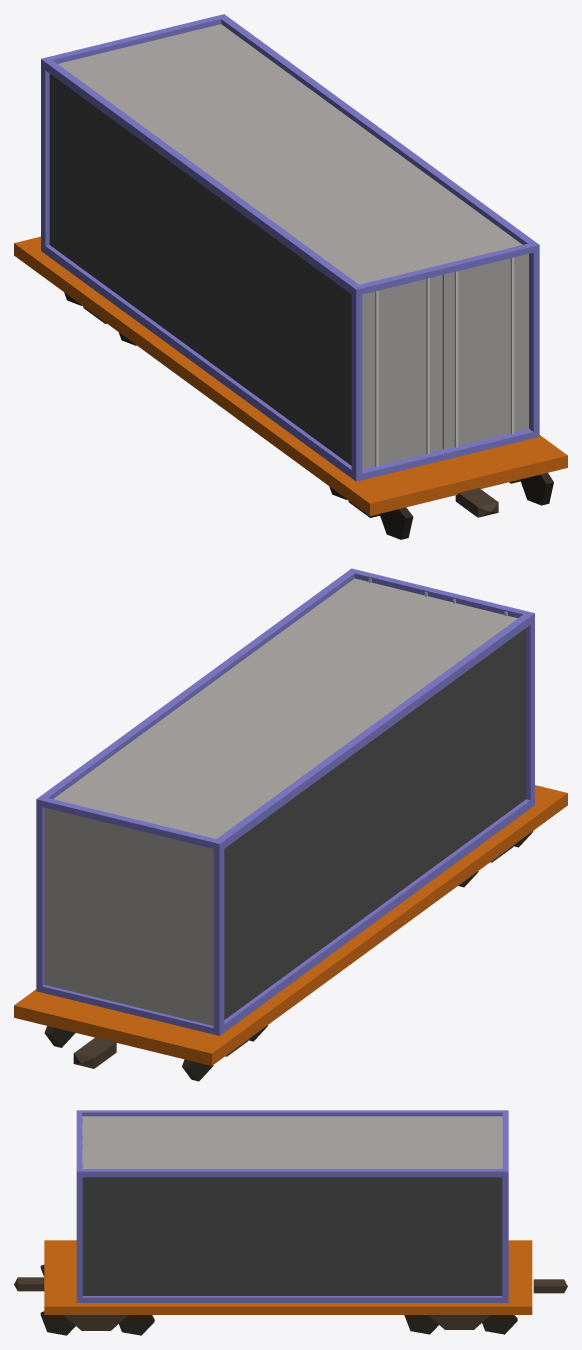
The model's file is train cargo.fbx.
3 renders of one model, top to bottom at view 1: azimuth 30°, elevation 25°; view 2: azimuth 150°, elevation 25°; view 3: azimuth 270°, elevation 25°, orthographic. The views are drawn at different scales.
Visible parts, largest first — view 1: cargo box, train base; view 2: cargo box, train base; view 3: cargo box, train base.
Part boxes in pixels (bbox=[...]): cargo box: bbox=[41, 14, 539, 481]; train base: bbox=[14, 236, 567, 539]; cargo box: bbox=[36, 568, 534, 1035]; train base: bbox=[14, 785, 567, 1081]; cargo box: bbox=[76, 1110, 508, 1302]; train base: bbox=[14, 1240, 567, 1335].
Size of the model in its own units: 723 by 856 by 2559.
